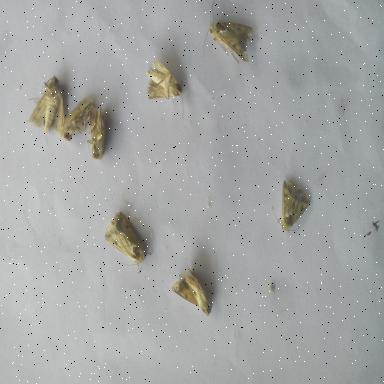abw: (196, 1, 258, 70), (100, 204, 152, 278), (24, 70, 70, 136), (144, 56, 188, 122), (266, 176, 314, 236), (170, 263, 218, 323), (57, 91, 99, 147), (83, 100, 112, 164)
